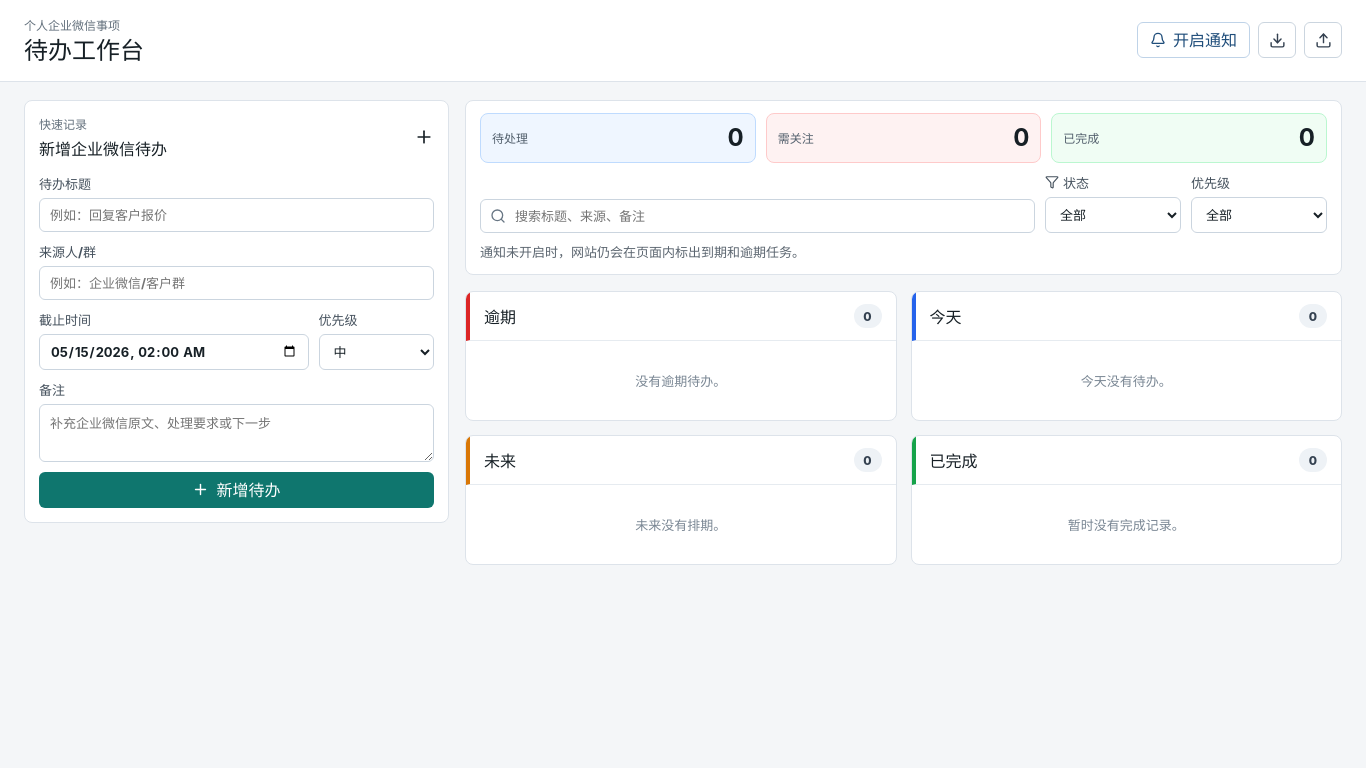
Test: App › edits an existing task and saves the updated details
This screenshot has width=1366, height=768.
Type "整理会议纪要" into the field labelled "待办标题".
click(236, 215); type("整理会议纪要")  # box 39,198 -> 434,232
Type "项目群" into the field labelled "来源人/群".
click(236, 283); type("项目群")  # box 39,266 -> 434,300
Replace the text in the field labelled "截止时间" with "2026-05-15T17:00" at (174, 352), box 39,334 -> 308,370
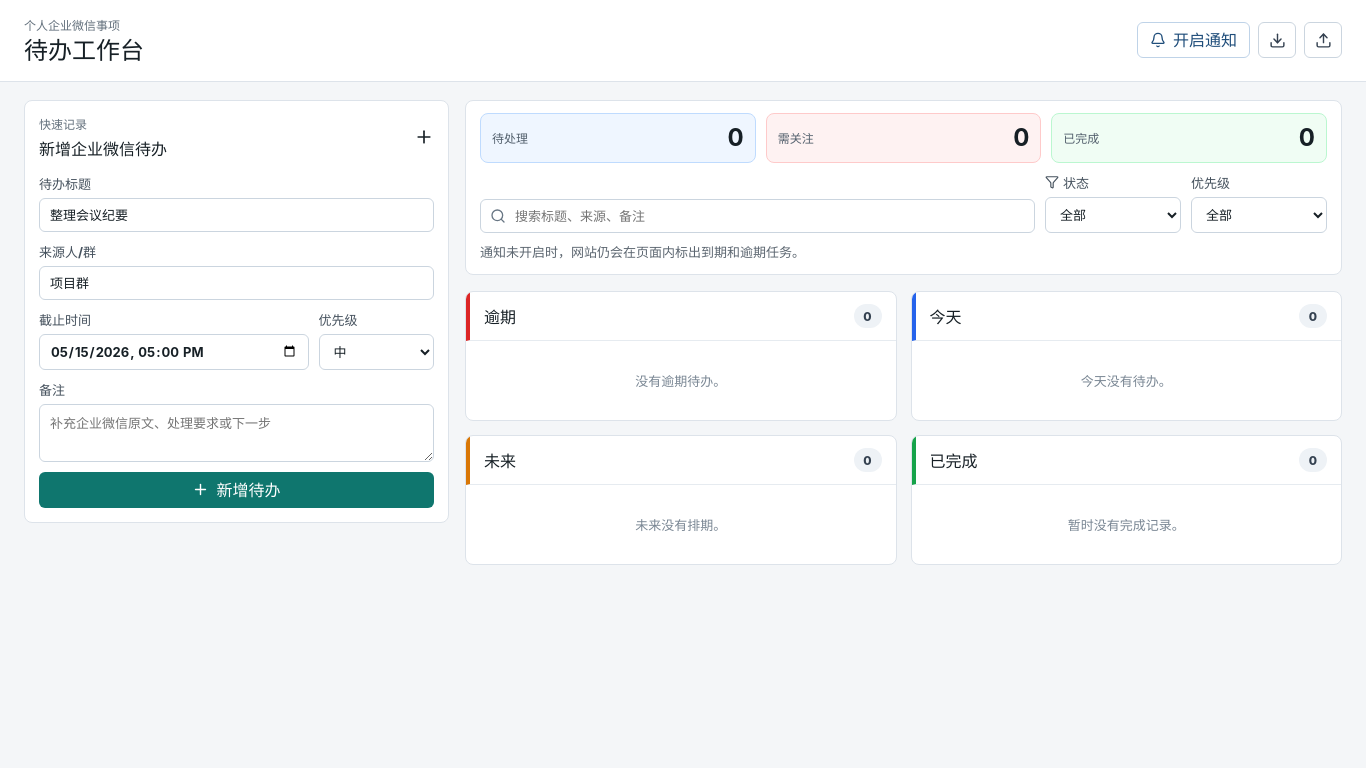
Click the button "新增待办".
click(236, 490)  # box 39,472 -> 434,508
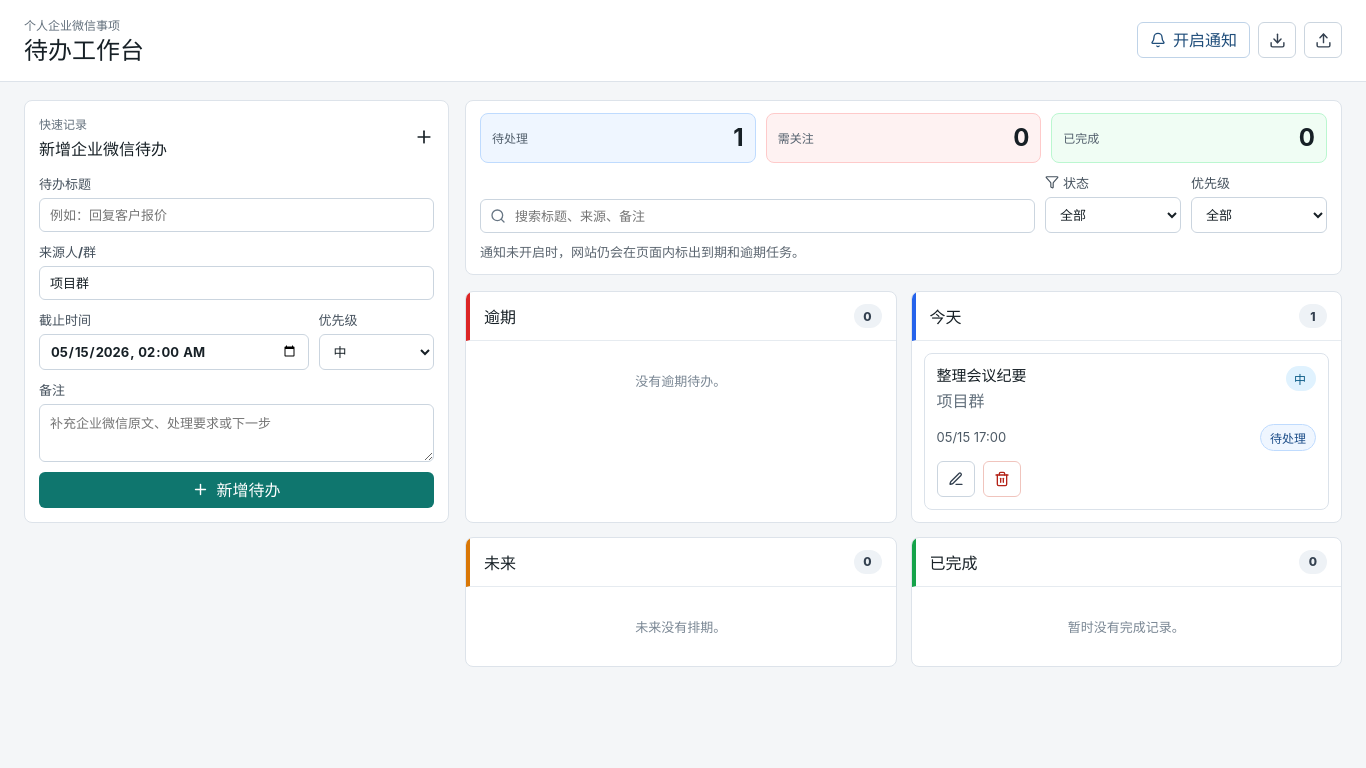
Click the button named "编辑 整理会议纪要".
click(956, 478)  # box 936,460 -> 974,496
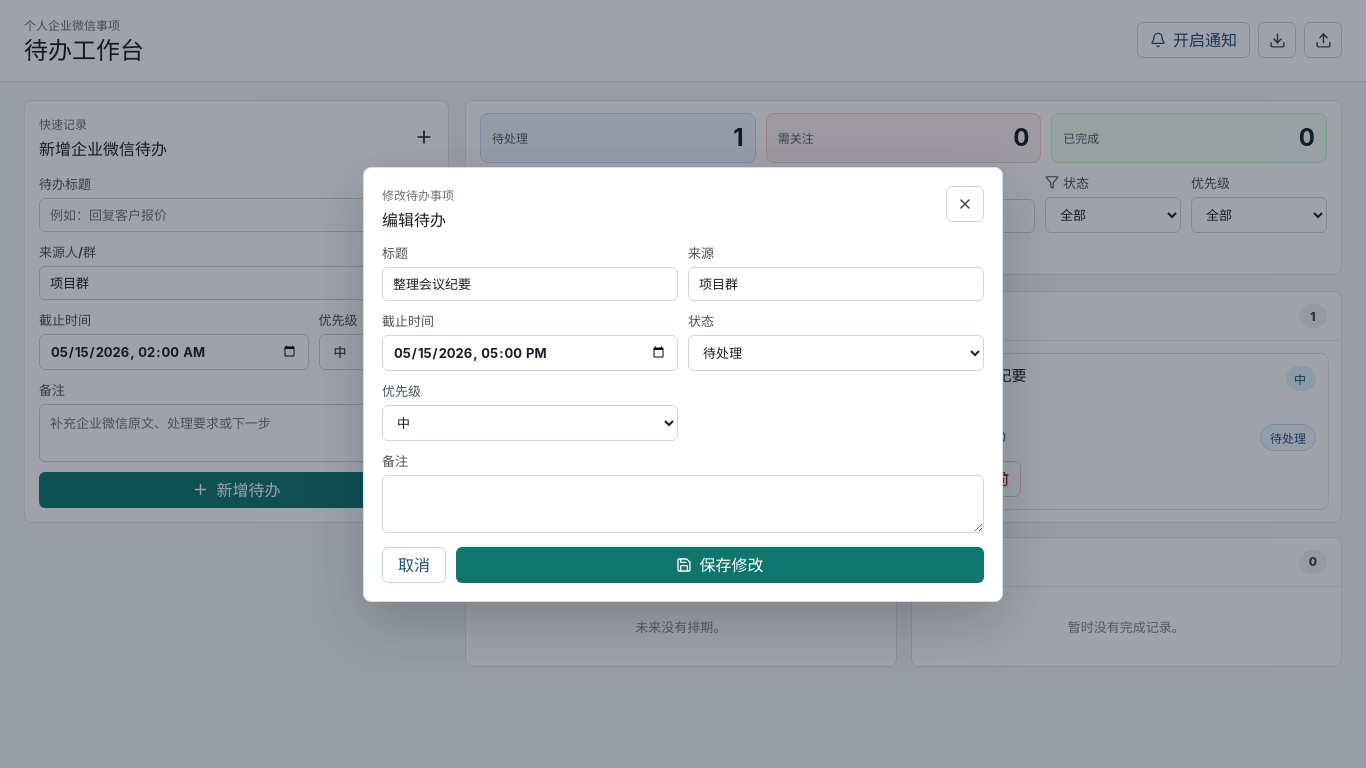
Replace the text in the field labelled "标题" with "整理客户会议纪要" at (530, 284), box 382,266 -> 678,300
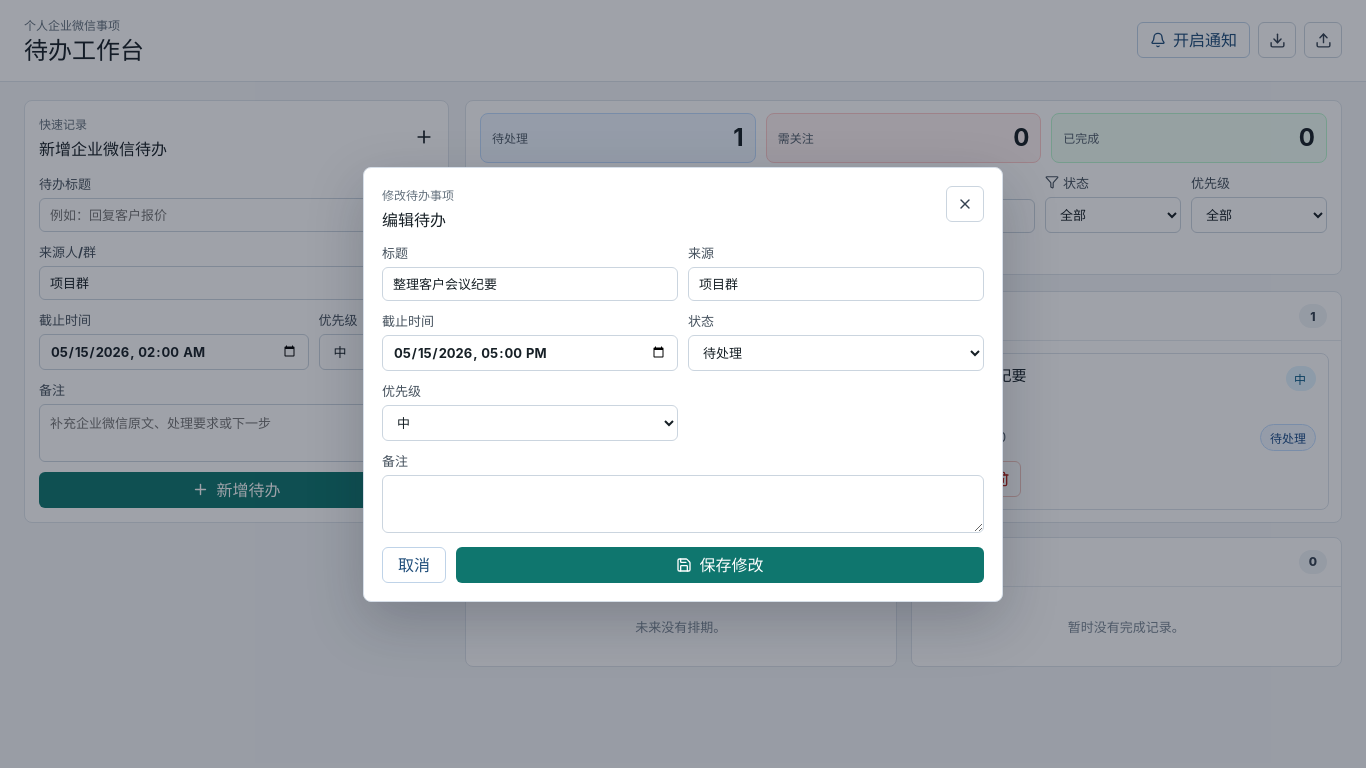
Replace the text in the field labelled "来源" with "客户群" at (836, 284), box 688,266 -> 984,300
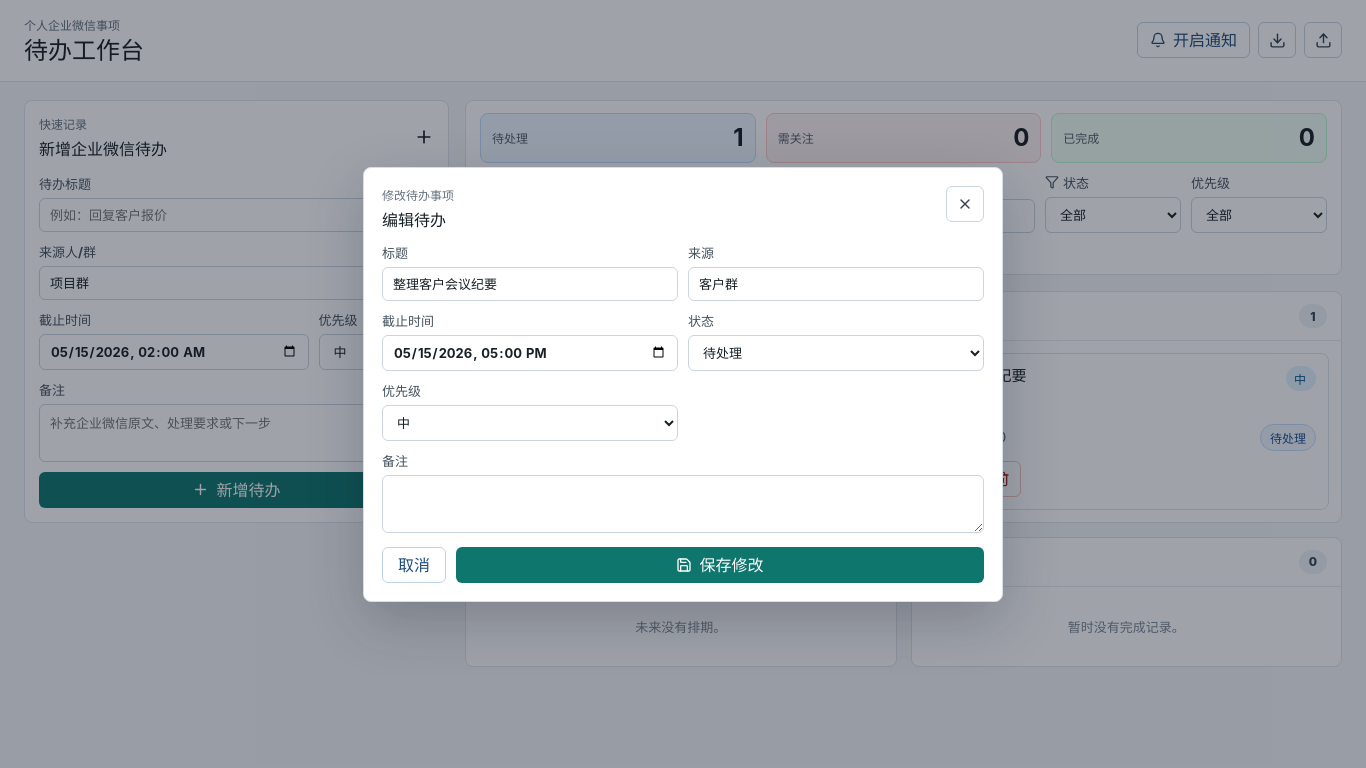
Click the button "保存修改".
click(720, 564)  # box 456,546 -> 984,582
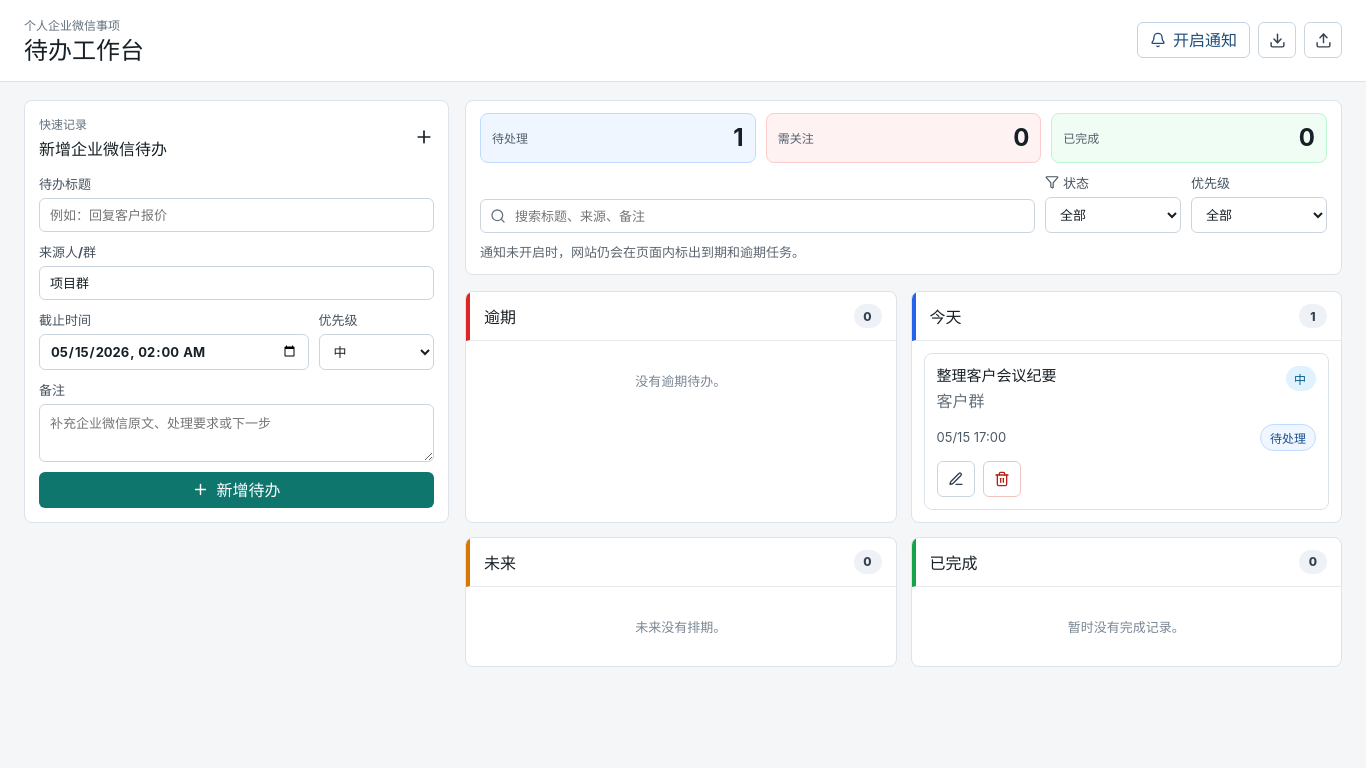
Expected: the heading "整理客户会议纪要" is shown, 936,366 -> 1056,386
Expected: the text "客户群" is shown, 936,391 -> 984,411
Expected: the heading "整理会议纪要" is gone
